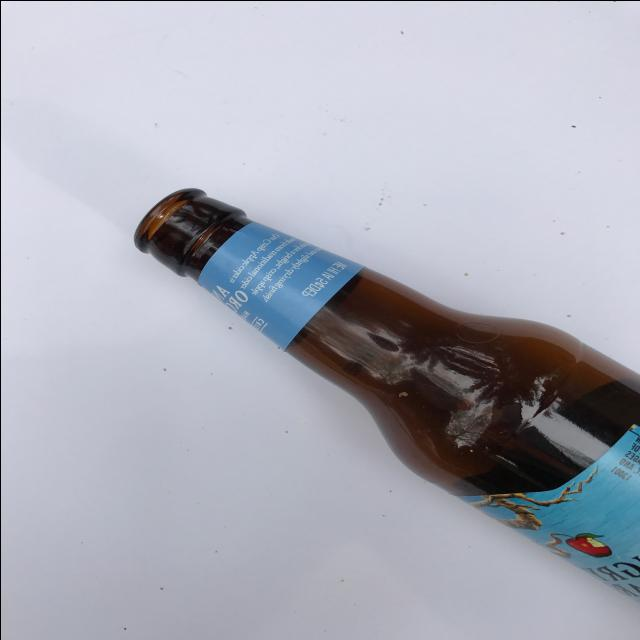glass: (132, 184, 630, 616)
